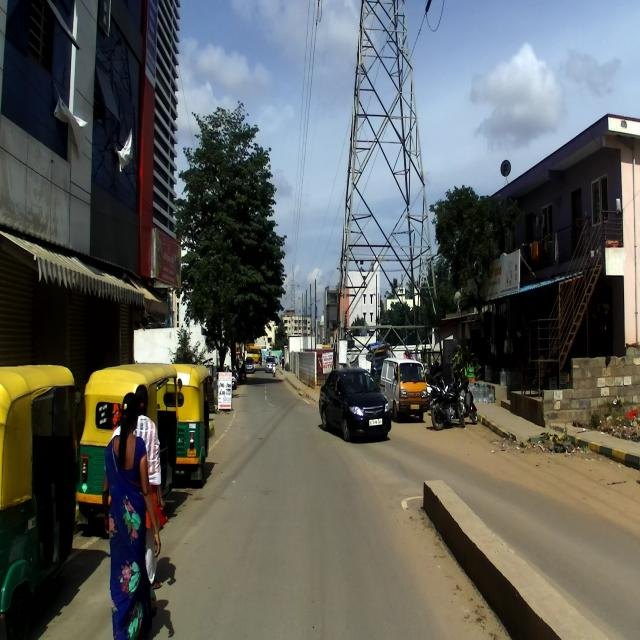Car_Honda: (318, 365, 390, 443)
autorickshaw: (0, 362, 83, 639), (76, 362, 181, 540)
